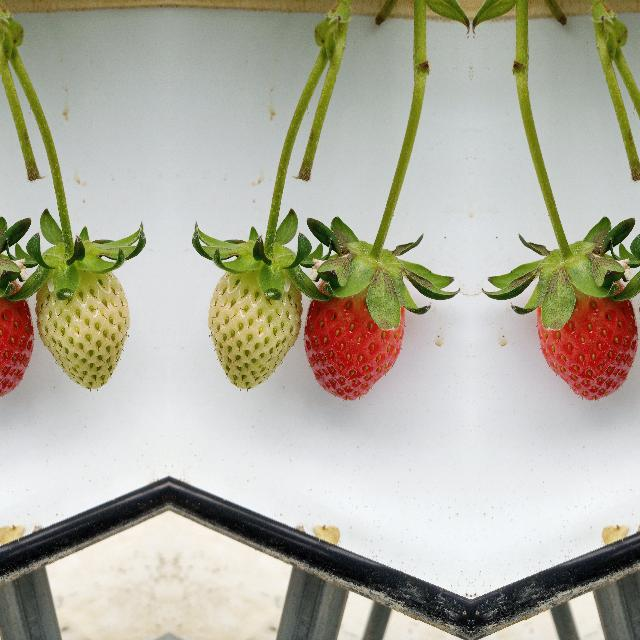Health_100: (301, 261, 405, 401), (536, 261, 640, 401), (0, 261, 35, 401)
Health_25: (211, 235, 301, 399), (35, 235, 125, 399)
